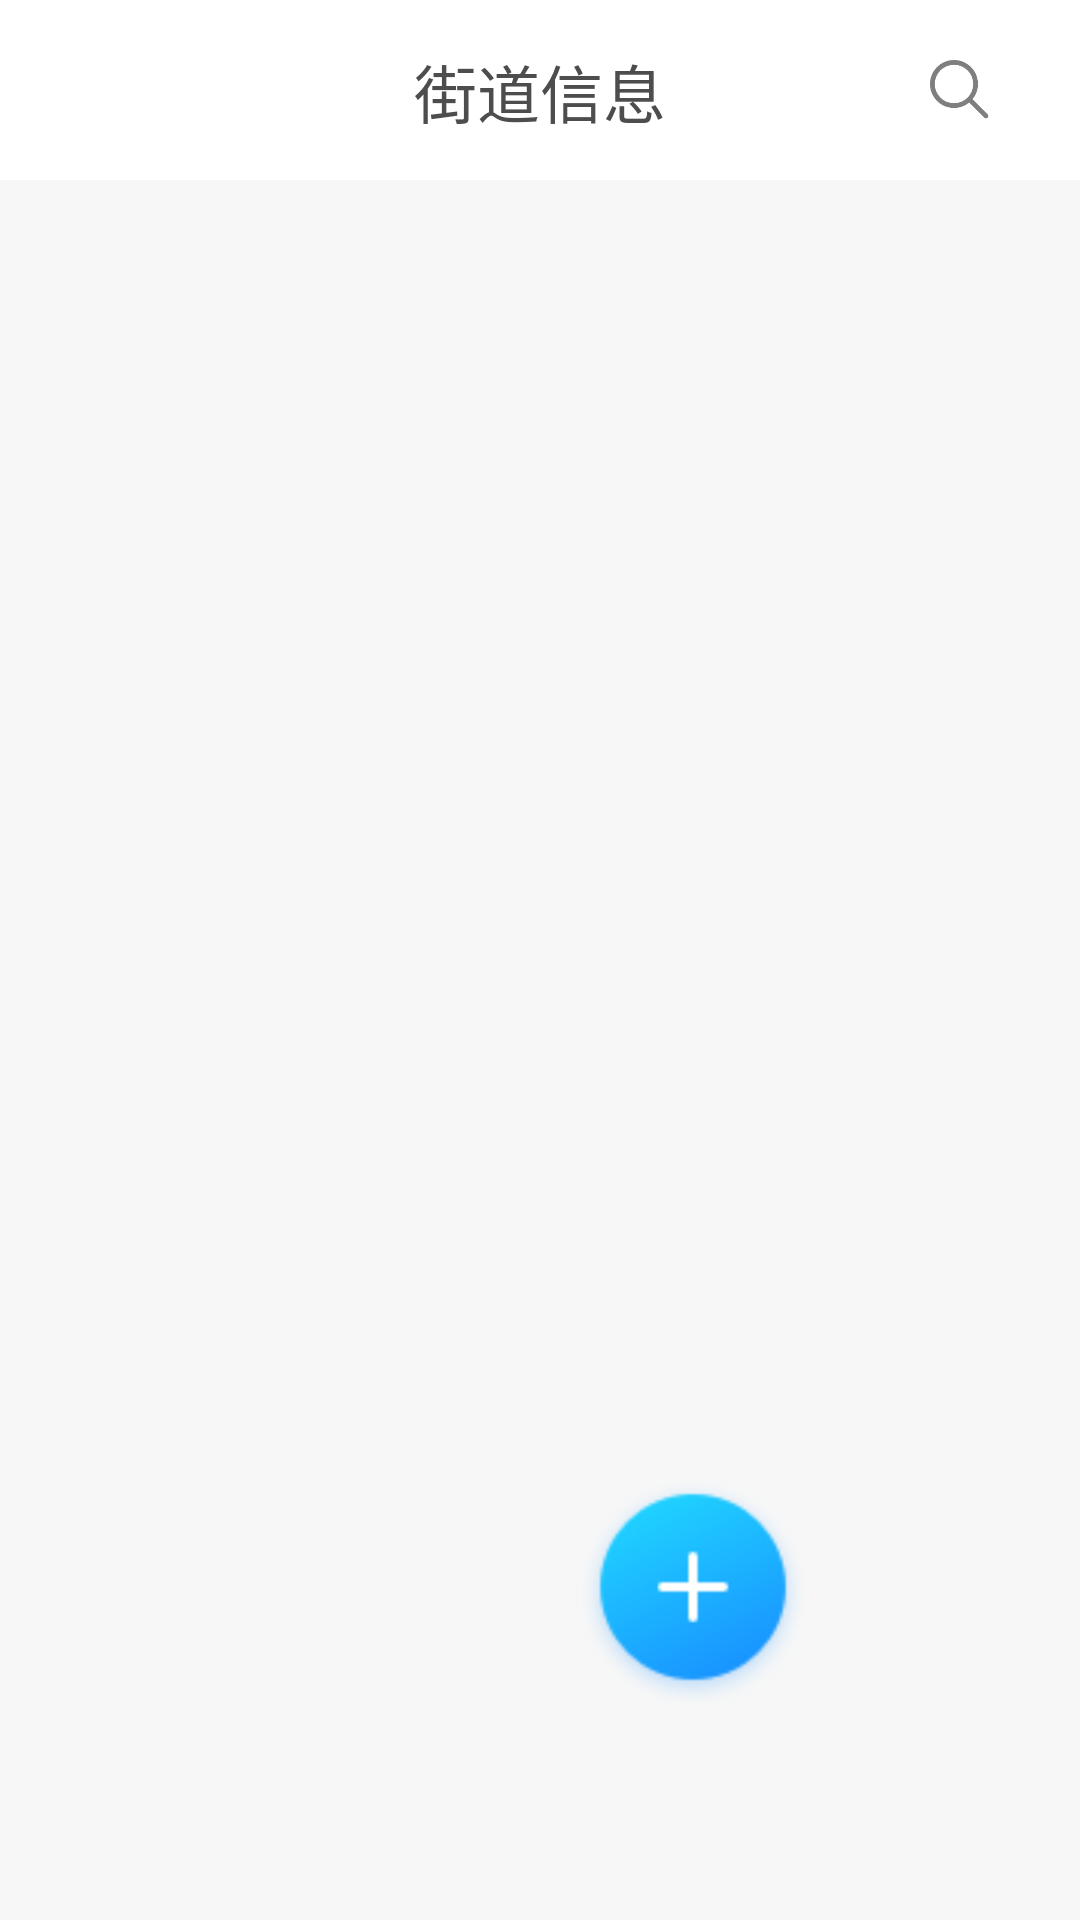

Where to tap for icons on this 1080x1920 app screen, as (x,y):
add: (693,1591)
search: (959,89)
